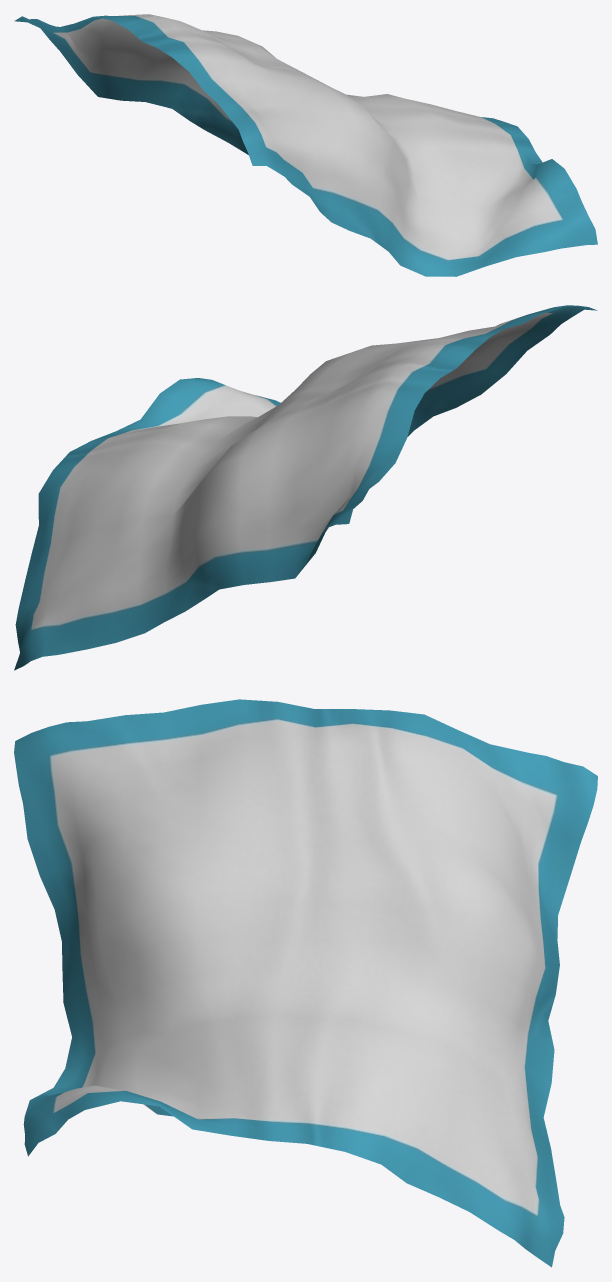
The model's file is cloth_02_CleaningTrachea.fbx.
3 renders of one model, top to bottom at view 1: azimuth 30°, elevation 25°; view 2: azimuth 150°, elevation 25°; view 3: azimuth 270°, elevation 25°, orthographic. The views are drawn at different scales.
Parts seen in each view (by area): view 1: cloth_02_CleaningTrachea; view 2: cloth_02_CleaningTrachea; view 3: cloth_02_CleaningTrachea.
Part boxes in pixels (x1,y1,x2,y2): cloth_02_CleaningTrachea: (14,14,597,276); cloth_02_CleaningTrachea: (14,305,597,670); cloth_02_CleaningTrachea: (14,699,597,1267).
Size of the model in its own units: 0.4611 by 0.3477 by 0.4935.
